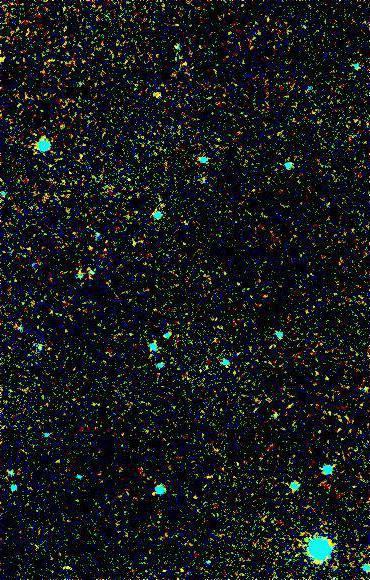star: (142, 82, 172, 112)
